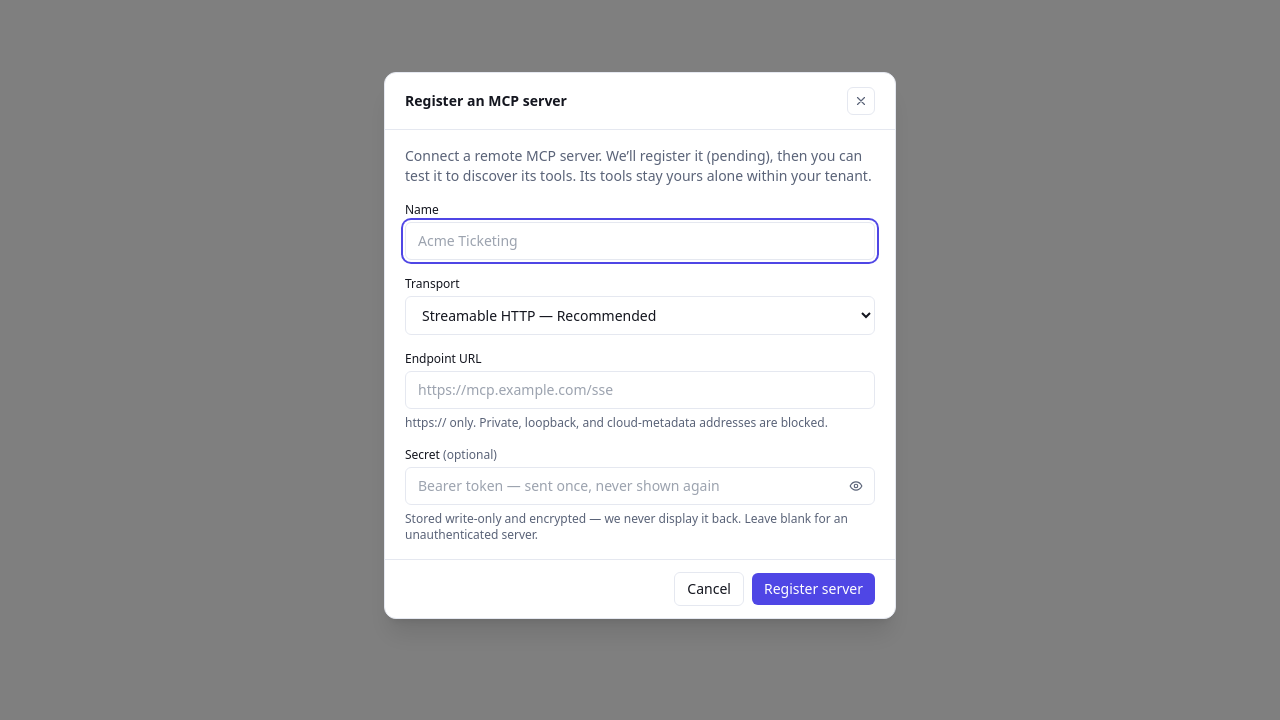
Test: RegisterServerModal — validation › rejects a non-https endpoint client-side (no POST)
Type "Acme" into the field labelled "Name" at point(640, 241), box [405, 222, 875, 260]
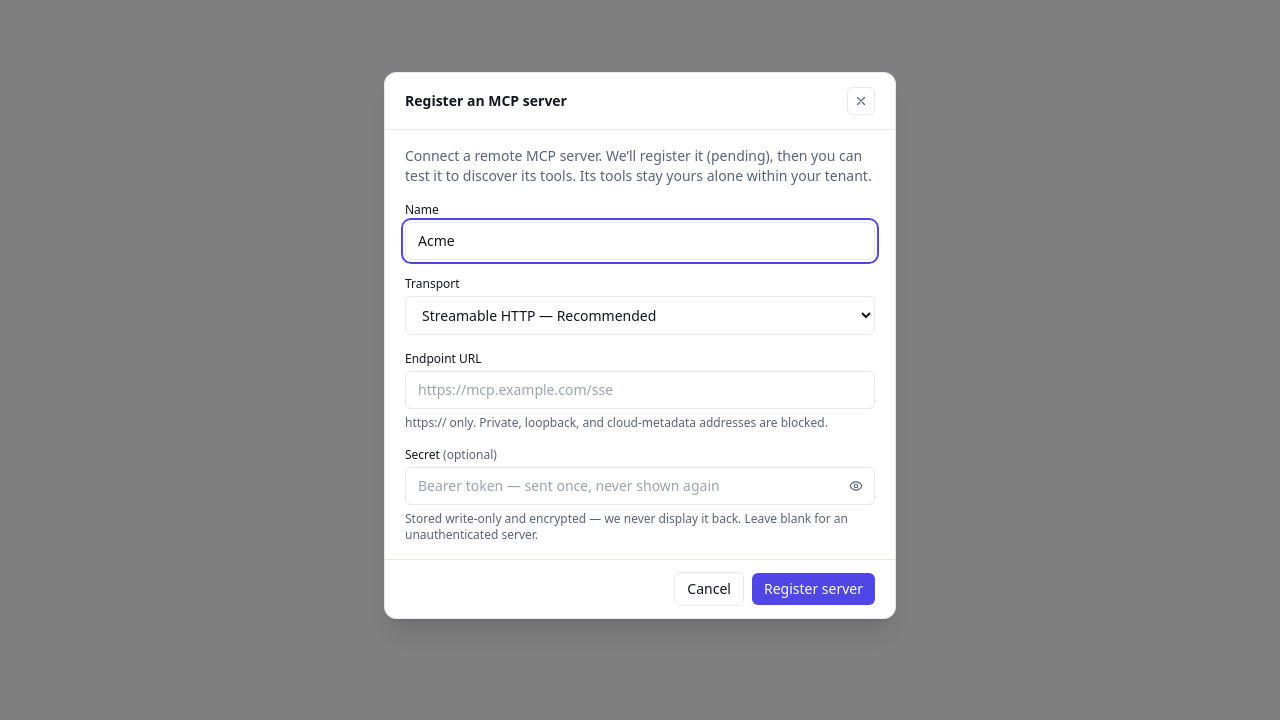
Type "http://mcp.acme.com" into the field labelled "Endpoint URL" at point(640, 390), box [405, 371, 875, 409]
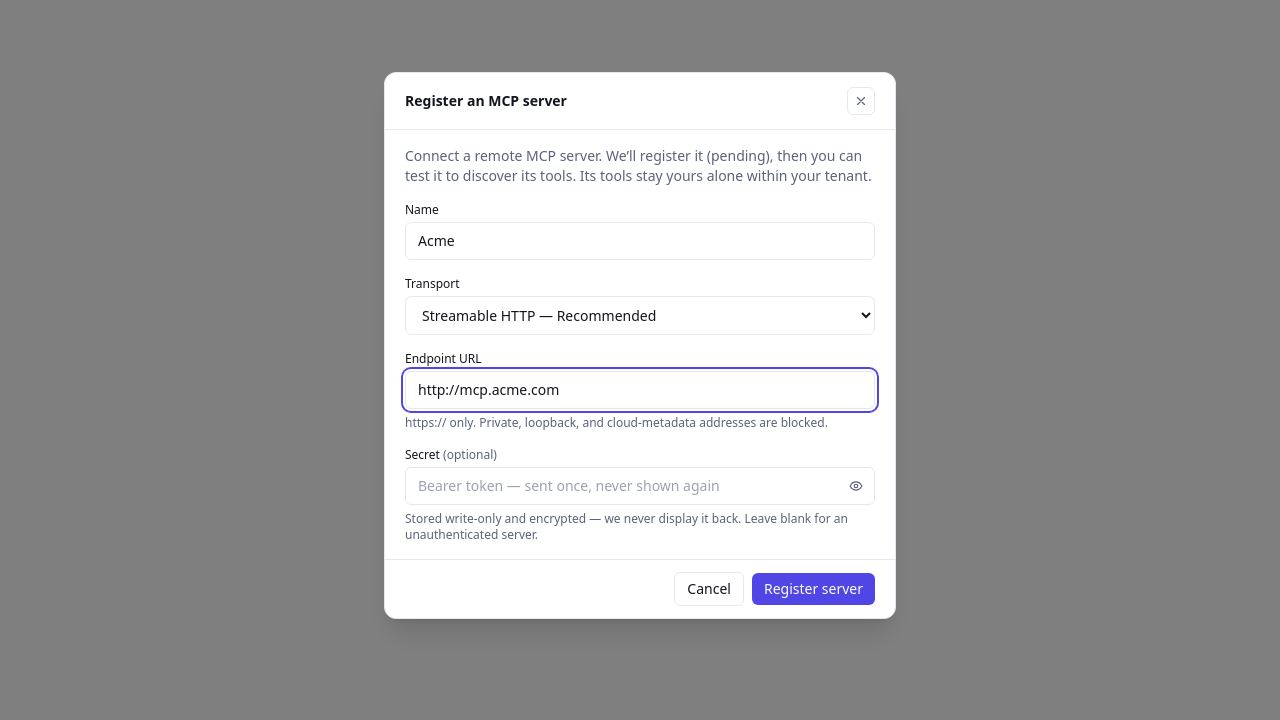
Click the button "Register server" at point(813, 589), box [752, 573, 875, 605]
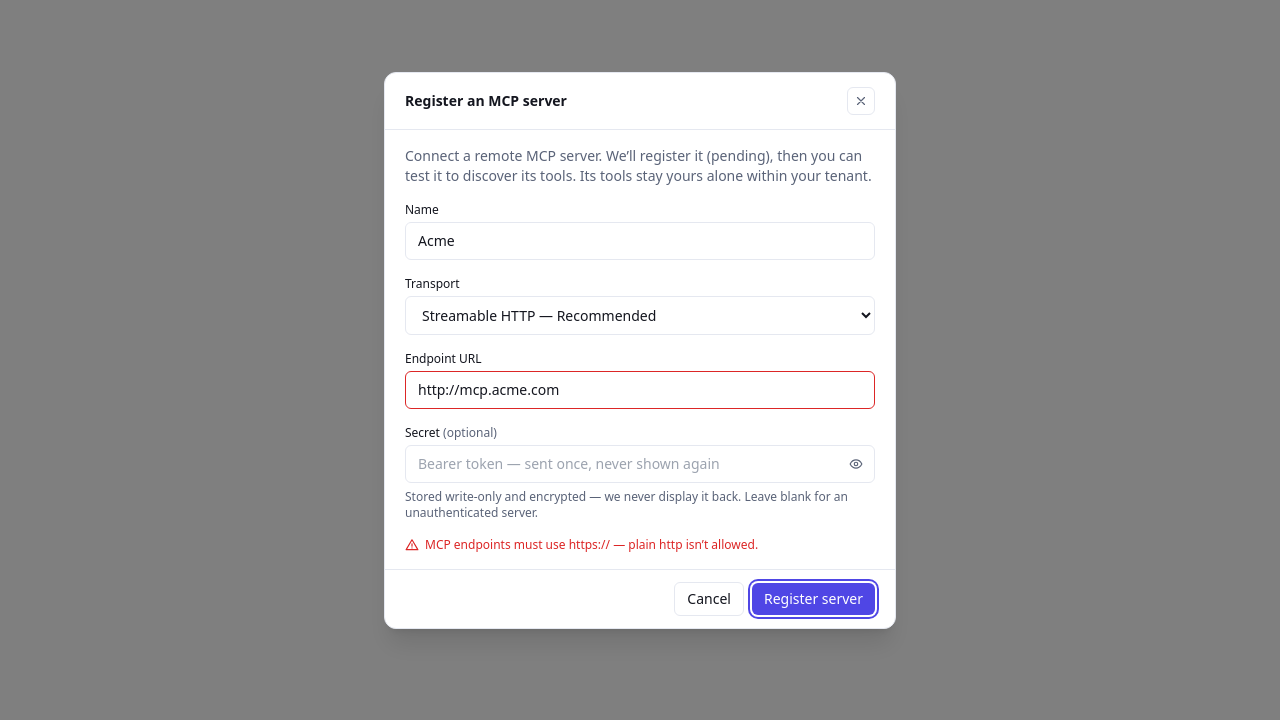
Expected: the message shows "https", [425, 536, 758, 553]
